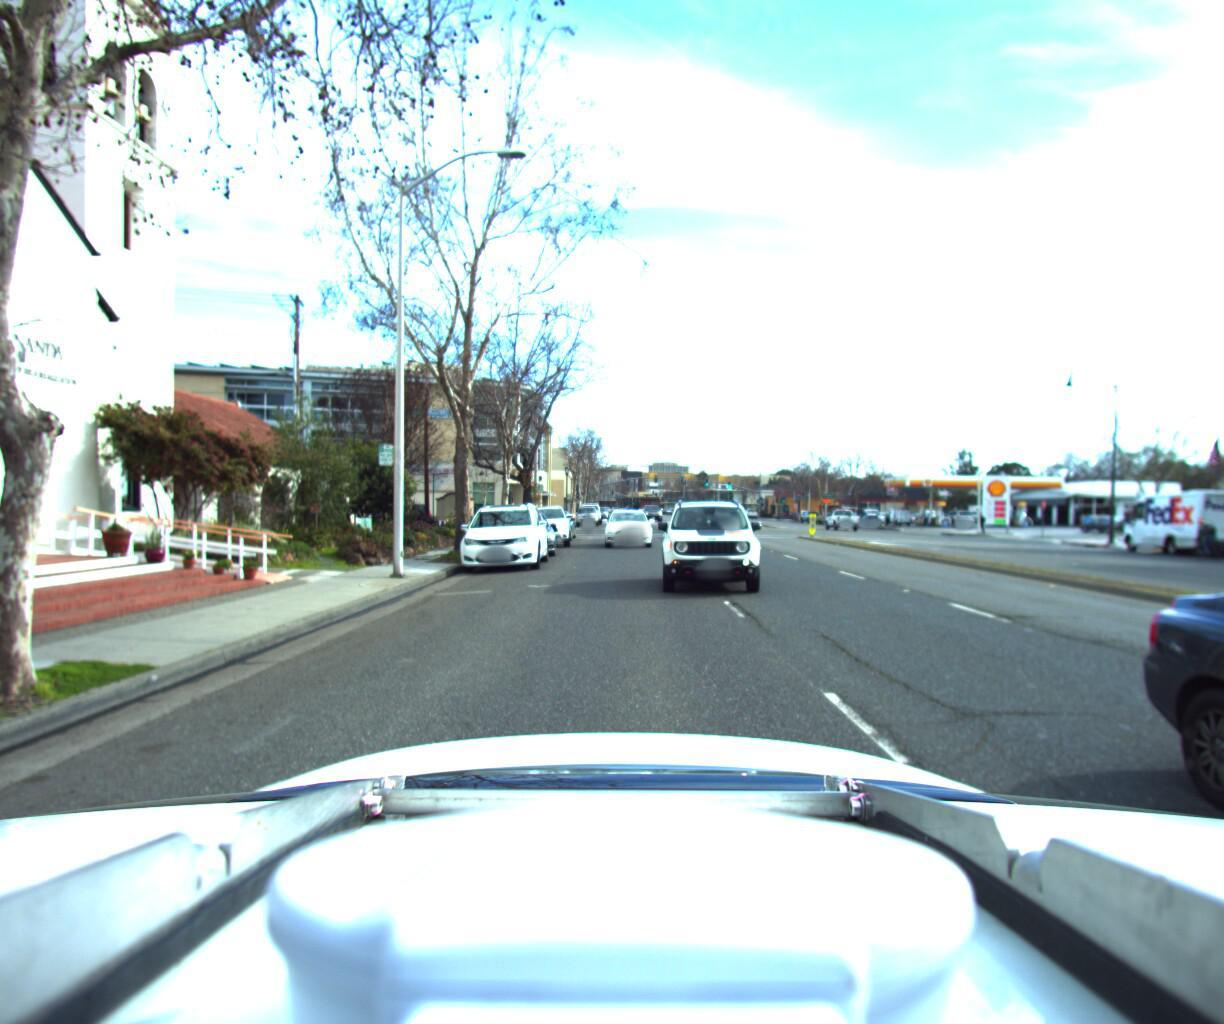bicycle: (1172, 514, 1222, 554)
car: (656, 495, 771, 610), (454, 490, 552, 567), (499, 502, 562, 555), (519, 495, 572, 542), (600, 504, 650, 547), (534, 500, 577, 534), (819, 498, 856, 521), (577, 491, 601, 517), (576, 496, 599, 519), (855, 504, 882, 520), (1212, 513, 1224, 537), (642, 501, 662, 516)
truck: (1113, 480, 1224, 553)
